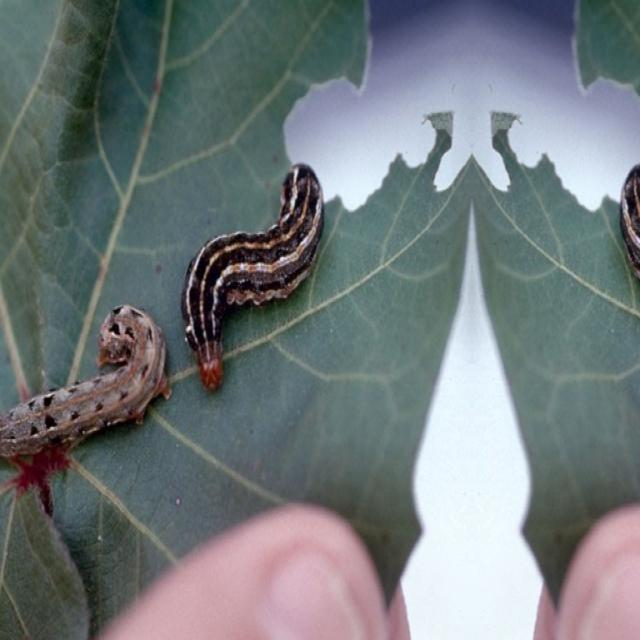Armyworm: (172, 149, 329, 416), (2, 282, 173, 512)
Armyworm_damage: (283, 35, 454, 233)
